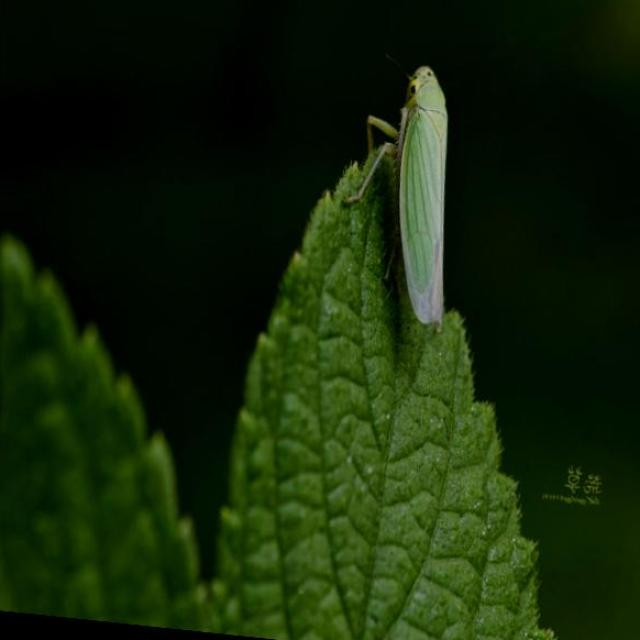green leaf hopper: (351, 66, 448, 323)
